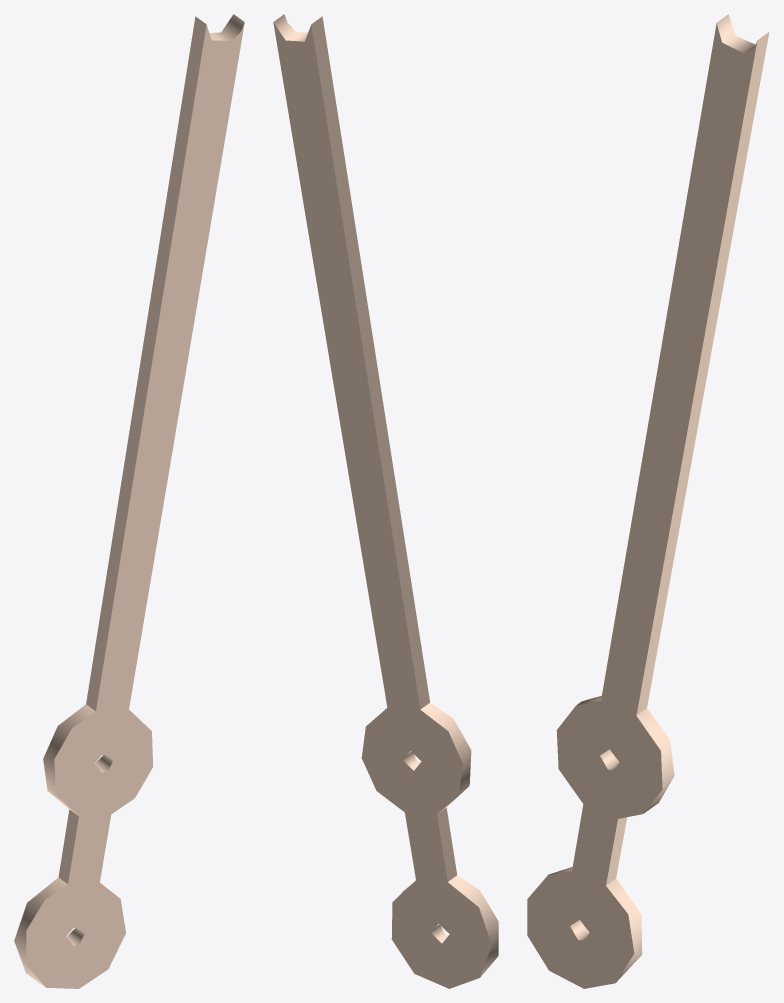
Rendered from Pied Gdetente Blocage sonneries.obj.
3 renders of one model, left to right at view 1: azimuth 30°, elevation 25°; view 2: azimuth 150°, elevation 25°; view 3: azimuth 330°, elevation 25°, orthographic. The views are drawn at different scales.
Parts seen in each view (by area): view 1: Face_11, Face_4, Face_6, Face_5, Face_2; view 2: Face_10, Face_4, Face_5, Face_6, Face_2; view 3: Face_11, Face_1, Face_7, Face_5, Face_12, Face_3.
Part boxes in pixels (x1,y1,x2,y2): Face_11: (26,23,244,988); Face_4: (86,16,206,710); Face_6: (43,704,95,815); Face_5: (14,877,67,987); Face_2: (58,809,78,883); Face_10: (273,22,491,988); Face_4: (311,16,429,709); Face_5: (394,875,498,983); Face_6: (420,702,471,812); Face_2: (437,807,456,881); Face_11: (527,23,757,988); Face_1: (636,32,769,715); Face_7: (636,708,674,813); Face_5: (548,867,642,982); Face_12: (717,14,755,53); Face_3: (606,817,626,885).
Size of the model in its own units: 0.034 by 0.1383 by 0.003.
